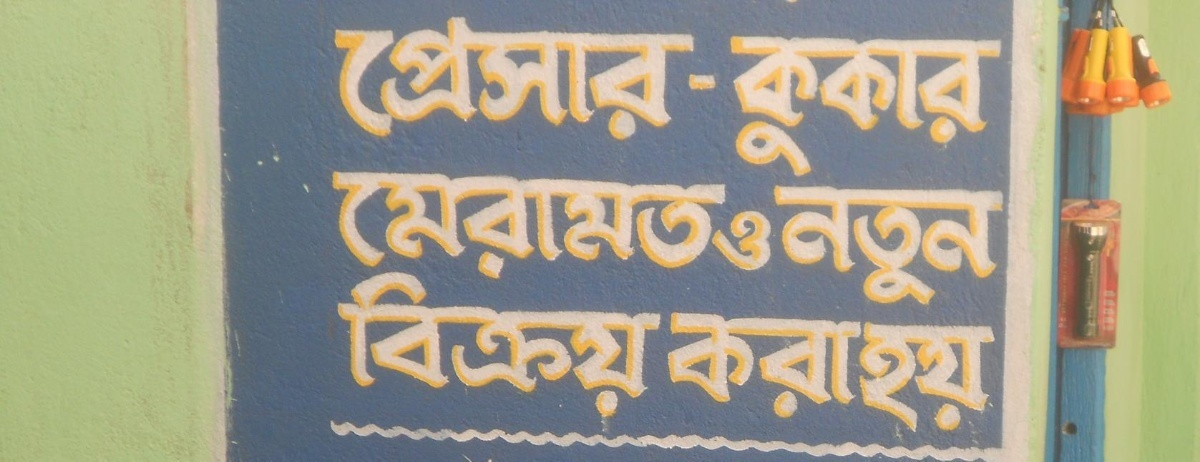text: (337, 270, 352, 417), (353, 270, 368, 417), (369, 270, 384, 417), (385, 270, 400, 417), (401, 270, 416, 417), (417, 270, 432, 417), (433, 270, 448, 417), (449, 270, 464, 417), (465, 270, 480, 417), (481, 270, 496, 417), (497, 270, 512, 417), (513, 270, 528, 417), (529, 270, 544, 417), (545, 270, 560, 417), (561, 270, 576, 417), (577, 270, 592, 417), (593, 270, 608, 417), (609, 270, 624, 417), (625, 270, 640, 417), (641, 270, 656, 417), (737, 34, 752, 180), (753, 34, 768, 180), (769, 34, 784, 180), (785, 34, 800, 180), (801, 34, 816, 180), (817, 34, 832, 180), (833, 34, 848, 180), (849, 34, 864, 180), (865, 34, 880, 180), (881, 34, 896, 180), (897, 34, 912, 180), (913, 34, 928, 180), (929, 34, 944, 180), (945, 34, 960, 180), (961, 34, 976, 180), (977, 34, 992, 180), (705, 16, 721, 142), (785, 181, 800, 309), (801, 181, 816, 309), (817, 181, 832, 309), (833, 181, 848, 309), (849, 181, 864, 309), (865, 181, 880, 309), (881, 181, 896, 309), (897, 181, 912, 309), (913, 181, 928, 309), (929, 181, 944, 309), (945, 181, 960, 309), (961, 181, 976, 309), (977, 181, 992, 309), (337, 16, 352, 142), (353, 16, 368, 142), (369, 16, 384, 142), (385, 16, 400, 142), (401, 16, 416, 142), (417, 16, 432, 142), (433, 16, 448, 142), (449, 16, 464, 142), (465, 16, 480, 142), (481, 16, 496, 142), (497, 16, 512, 142), (513, 16, 528, 142), (529, 16, 544, 142), (545, 16, 560, 142), (561, 16, 576, 142), (577, 16, 592, 142), (593, 16, 608, 142), (609, 16, 624, 142), (625, 16, 640, 142), (641, 16, 656, 142), (657, 16, 672, 142), (673, 16, 688, 142), (689, 16, 704, 142), (865, 319, 880, 435), (881, 319, 896, 435), (897, 319, 912, 435), (913, 319, 928, 435), (929, 319, 944, 435), (945, 319, 960, 435), (961, 319, 976, 435), (977, 319, 992, 435), (337, 167, 352, 282), (353, 167, 368, 282), (369, 167, 384, 282), (385, 167, 400, 282), (401, 167, 416, 282), (417, 167, 432, 282), (433, 167, 448, 282), (449, 167, 464, 282), (465, 167, 480, 282), (481, 167, 496, 282), (497, 167, 512, 282), (513, 167, 528, 282), (529, 167, 544, 282), (545, 167, 560, 282), (561, 167, 576, 282), (577, 167, 592, 282), (593, 167, 608, 282), (609, 167, 624, 282), (625, 167, 640, 282), (641, 167, 656, 282), (657, 167, 672, 282), (673, 167, 688, 282), (689, 167, 704, 282), (705, 167, 720, 282), (993, 34, 1004, 180), (673, 311, 688, 418), (689, 311, 704, 418), (705, 311, 720, 418), (721, 311, 736, 418), (737, 311, 752, 418), (753, 311, 768, 418), (769, 311, 784, 418), (785, 311, 800, 418), (801, 311, 816, 418), (817, 311, 832, 418), (833, 311, 848, 418), (773, 181, 784, 309), (993, 181, 1004, 309), (849, 311, 861, 418), (728, 34, 736, 180), (721, 208, 736, 273), (737, 208, 752, 273), (753, 208, 768, 273), (329, 167, 336, 282), (721, 167, 728, 282), (331, 270, 336, 417), (657, 270, 662, 417), (667, 311, 672, 418), (712, 208, 720, 273), (993, 319, 997, 435), (333, 16, 336, 142), (861, 319, 864, 435), (769, 208, 773, 273)
